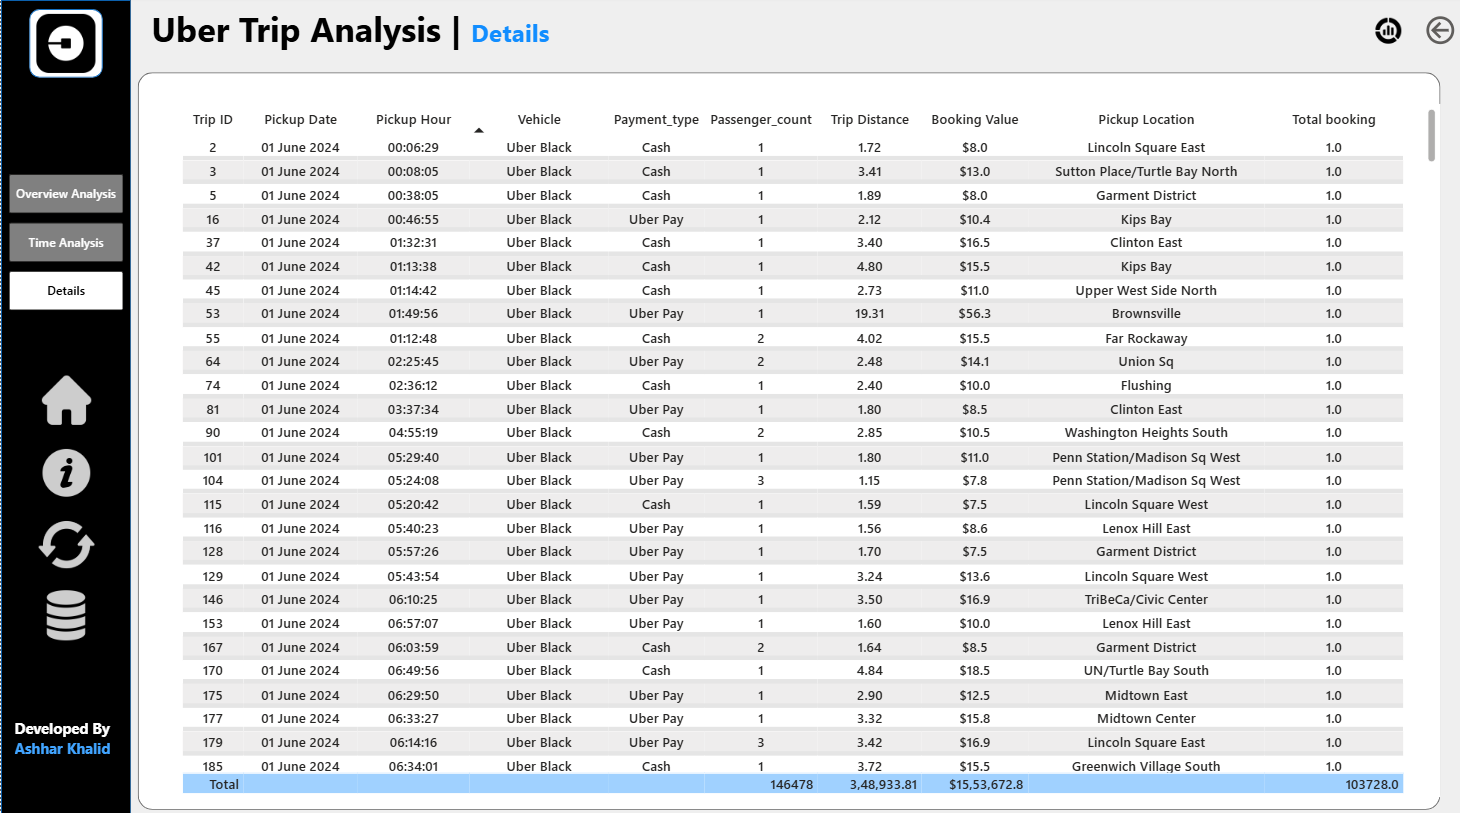

This screenshot's page, from the dashboard's own definition file:
{"tool":"powerbi","page":{"name":"Details ","canvas":[1600,900],"ordinal":2},"visuals":[{"type":"shape","box":[0,0,142,899.7],"z":0},{"type":"textbox","box":[159.4,0,713.6,65.8],"z":1000},{"type":"shape","box":[30.8,10.7,80.3,75],"z":1000,"group":"g1"},{"type":"shape","box":[149.3,78.5,1423.5,806],"z":2000},{"type":"image","box":[32.9,10.1,74.7,74.7],"z":3000,"group":"g1"},{"type":"tableEx","fields":{"Values":["Trip Details.Trip ID","Trip Details.Pickup Date","Trip Details.Pickup Hour (HH MM SS)","Trip Details.Vehicle","Trip Details.Payment_type","Sum(Trip Details.passenger_count)","Trip Details.Total Trip Distance Measure","Trip Details.Total Booking Value","Location Table.Location","Trip Details.Total booking"]},"box":[192.3,113.9,1380.5,757.9],"z":3000},{"type":"actionButton","box":[1552.6,12.7,40.5,40.5],"z":4000},{"type":"image","box":[1497.2,12.1,38.8,42.9],"z":5000},{"type":"pageNavigator","box":[8,190.2,125.9,151.3],"z":6000},{"type":"image","box":[36.2,559.8,72.3,71],"z":7000},{"type":"image","box":[36.2,404.4,71,64.3],"z":8000},{"type":"image","box":[38.8,484.8,67,62.9],"z":9000},{"type":"image","box":[32.1,640.1,77.7,65.6],"z":10000},{"type":"textbox","box":[10.1,779.4,125.3,65.8],"z":11000},{"type":"group","id":"g1","title":"Group 1","box":[30.8,10.1,80.3,75.6],"z":12000}]}

Visuals, with their boxes on the page's 1600x900 design canvas (x1, y1, x2, y2). These are canvas units, not pixel positions in the 1460x813 screenshot, which may show the page scaled, cropped or inside an application window:
shape: [left=0, top=0, right=142, bottom=900]
textbox: [left=159, top=0, right=873, bottom=66]
shape: [left=31, top=11, right=111, bottom=86]
shape: [left=149, top=78, right=1573, bottom=884]
image: [left=33, top=10, right=108, bottom=85]
tableEx - Trip Details.Trip ID x Trip Details.Pickup Date: [left=192, top=114, right=1573, bottom=872]
actionButton: [left=1553, top=13, right=1593, bottom=53]
image: [left=1497, top=12, right=1536, bottom=55]
pageNavigator: [left=8, top=190, right=134, bottom=342]
image: [left=36, top=560, right=108, bottom=631]
image: [left=36, top=404, right=107, bottom=469]
image: [left=39, top=485, right=106, bottom=548]
image: [left=32, top=640, right=110, bottom=706]
textbox: [left=10, top=779, right=135, bottom=845]
"Group 1" group: [left=31, top=10, right=111, bottom=86]
